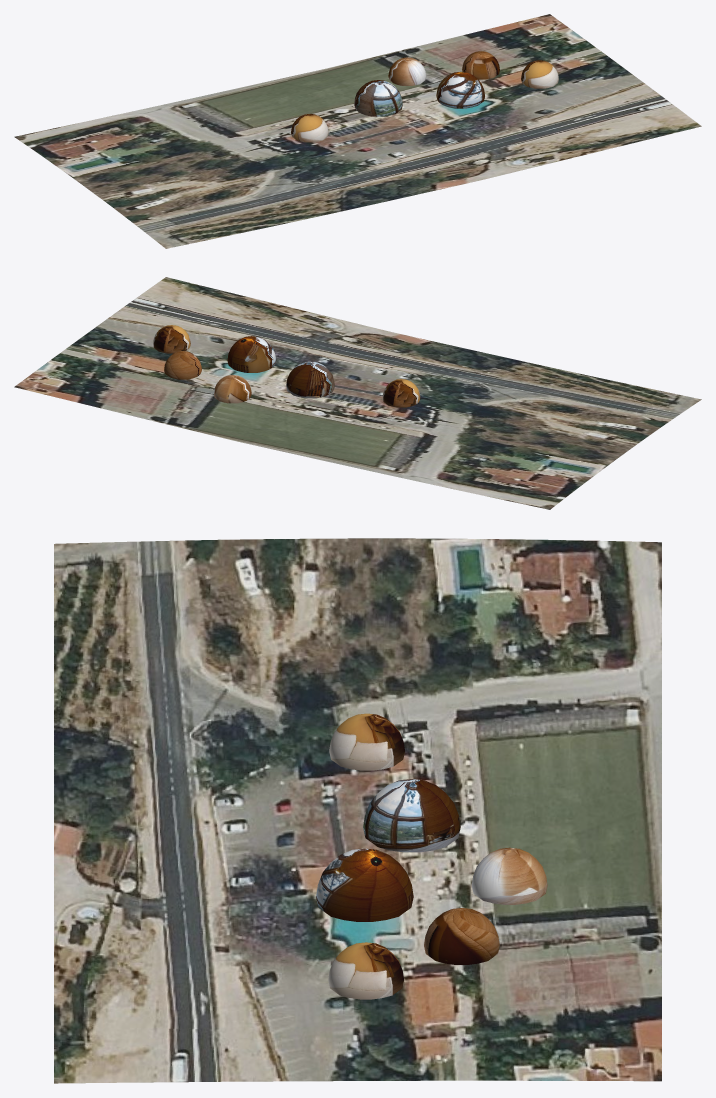
The model's file is aumara-site.glb.
3 renders of one model, top to bottom at view 1: azimuth 30°, elevation 25°; view 2: azimuth 150°, elevation 25°; view 3: azimuth 270°, elevation 25°, orthographic. The views are drawn at different scales.
Visible parts, largest first — view 1: terrain, dome_D, dome_B, dome_F, dome_A, dome_C, dome_E; view 2: terrain, dome_B, dome_D, dome_C, dome_E, dome_A, dome_F; view 3: terrain, dome_B, dome_D, dome_F, dome_A, dome_C, dome_E.
Part boxes in pixels (x1=…): terrain: x1=14, y1=14, x2=701, y2=248; dome_D: x1=436, y1=72, x2=484, y2=108; dome_B: x1=354, y1=80, x2=402, y2=116; dome_F: x1=521, y1=60, x2=558, y2=88; dome_A: x1=291, y1=114, x2=328, y2=142; dome_C: x1=388, y1=57, x2=426, y2=85; dome_E: x1=462, y1=51, x2=499, y2=79; terrain: x1=14, y1=277, x2=701, y2=509; dome_B: x1=286, y1=361, x2=334, y2=398; dome_D: x1=227, y1=336, x2=276, y2=372; dome_C: x1=214, y1=374, x2=251, y2=403; dome_E: x1=164, y1=351, x2=201, y2=379; dome_A: x1=382, y1=379, x2=420, y2=407; dome_F: x1=153, y1=325, x2=190, y2=353; terrain: x1=54, y1=538, x2=661, y2=1083; dome_B: x1=363, y1=779, x2=460, y2=852; dome_D: x1=316, y1=848, x2=413, y2=921; dome_F: x1=328, y1=942, x2=403, y2=999; dome_A: x1=329, y1=713, x2=404, y2=770; dome_C: x1=471, y1=847, x2=547, y2=904; dome_E: x1=424, y1=908, x2=499, y2=964.
Bounding box in the file's own units: 114 × 8.41 × 56.
8 materials, 8 textured.
